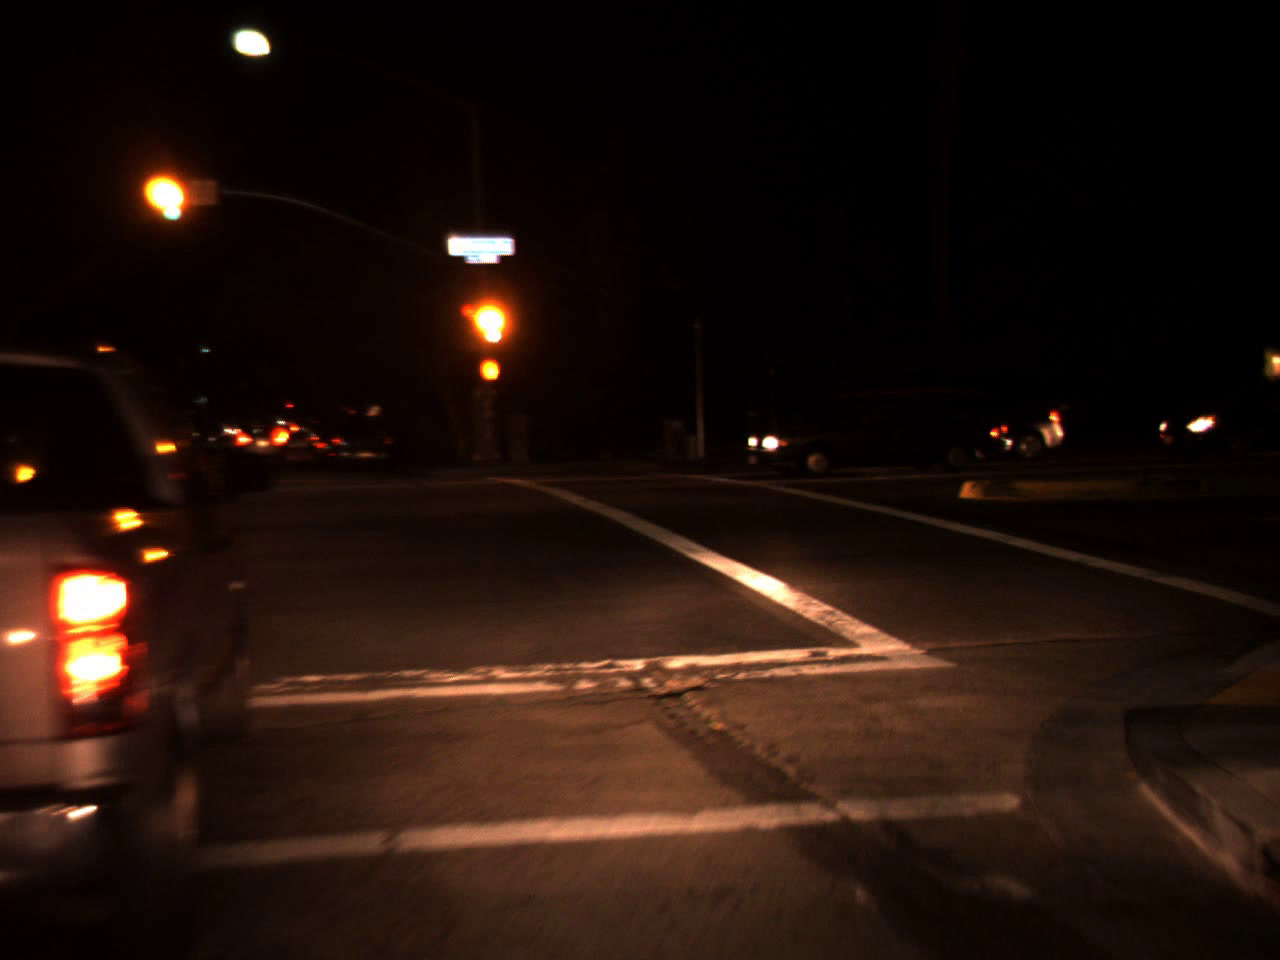warning: (143, 155, 191, 227), (466, 288, 506, 350)
